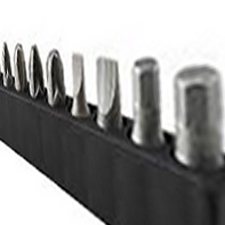screwdriver: (1, 33, 221, 175)
